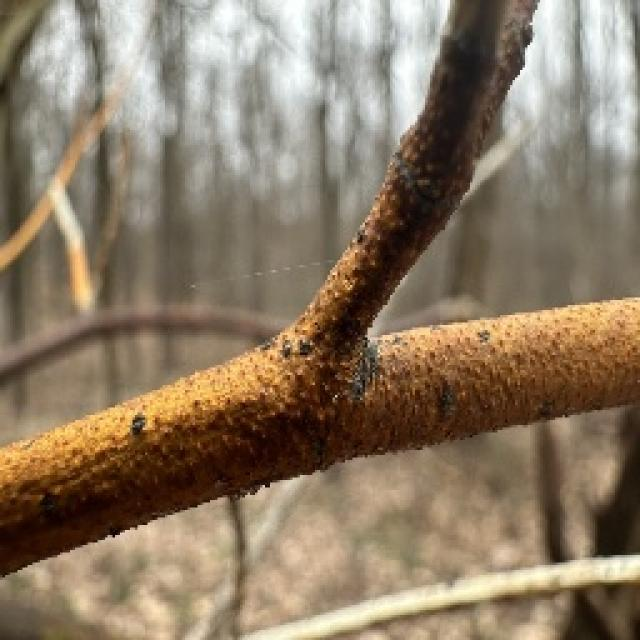Golden_canker: (2, 65, 640, 540)
